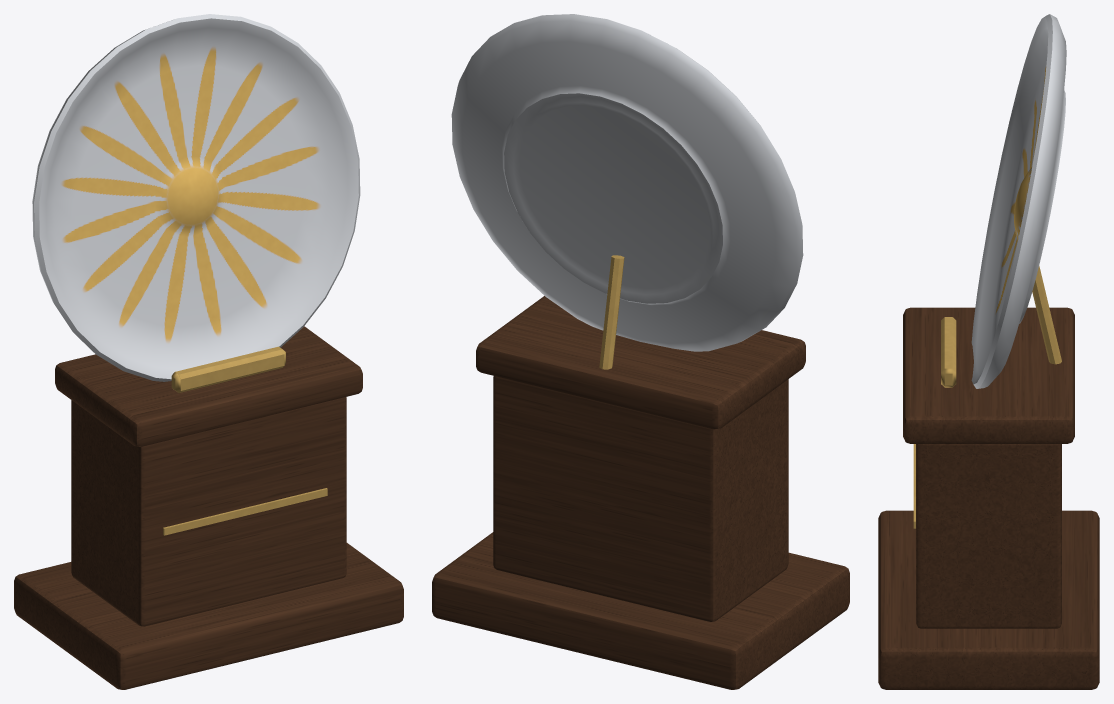
Rendered from SM_FS_SlamPlate.glb.
3 views of the same model, side by side, from view 1: azimuth 30°, elevation 25°; view 2: azimuth 150°, elevation 25°; view 3: azimuth 270°, elevation 25° (orthographic). The views are drawn at different scales.
Visible parts, largest first — view 1: SM_FS_SlamPlate; view 2: SM_FS_SlamPlate; view 3: SM_FS_SlamPlate.
Boxes of the visible parts, x1,y1,x2,y2 form: SM_FS_SlamPlate: [14, 14, 403, 689]; SM_FS_SlamPlate: [432, 14, 849, 689]; SM_FS_SlamPlate: [878, 14, 1099, 689].
Size of the model in its own units: 0.147 by 0.25 by 0.085.
1 material, 1 textured.
